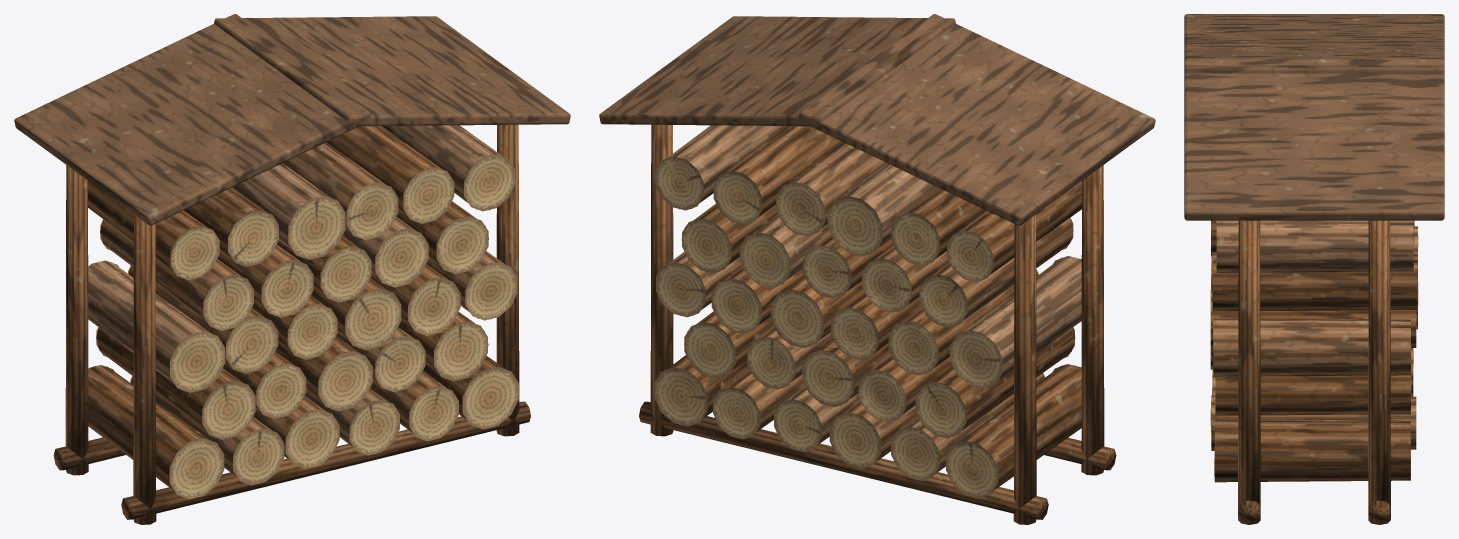
File: log_stack.glb
3 renders of one model, left to right at view 1: azimuth 30°, elevation 25°; view 2: azimuth 150°, elevation 25°; view 3: azimuth 270°, elevation 25°, orthographic. The views are drawn at different scales.
Parts seen in each view (by area): view 1: LogStack; view 2: LogStack; view 3: LogStack.
Boxes of the visible parts, x1=… form: LogStack: x1=14, y1=14, x2=570, y2=524; LogStack: x1=599, y1=14, x2=1155, y2=524; LogStack: x1=1184, y1=14, x2=1444, y2=524.
Size of the model in its own units: 1.45 by 1.26 by 0.8.
1 material, 1 textured.
